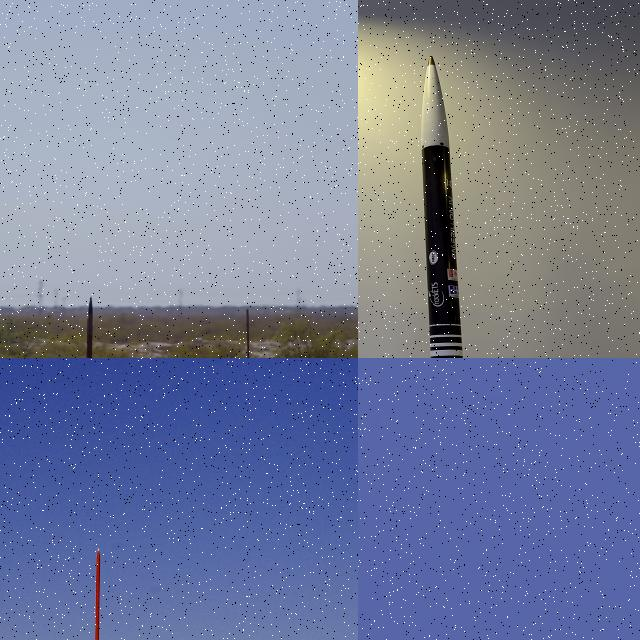Rocket: (421, 55, 463, 358), (85, 547, 105, 640), (82, 295, 96, 358)
